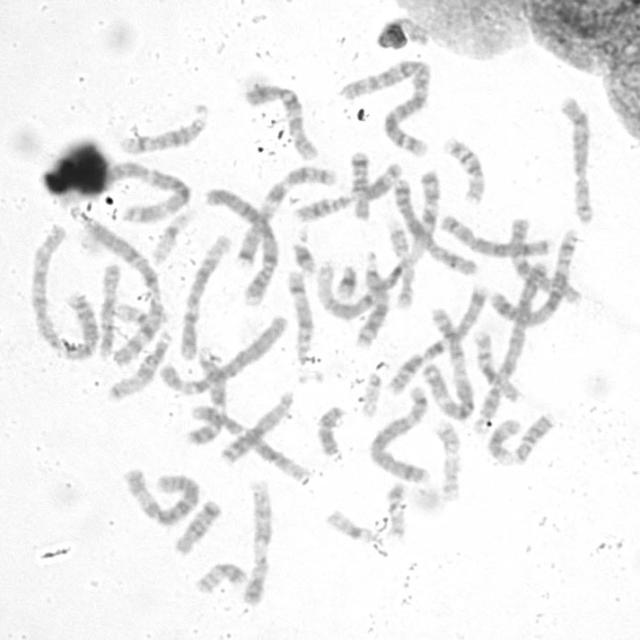A1: (310, 168, 442, 321), (78, 215, 166, 366)
A2: (335, 50, 436, 158), (26, 222, 100, 360)
A3: (422, 302, 477, 422), (101, 156, 193, 224)
B4: (470, 252, 552, 436), (202, 183, 282, 308)
B5: (484, 227, 582, 327), (364, 381, 432, 485)
C10: (507, 215, 584, 307), (240, 78, 320, 162)
C11: (288, 158, 404, 224), (510, 410, 556, 465)
C12: (186, 402, 311, 484), (174, 230, 233, 362)
C6: (157, 309, 291, 396), (119, 463, 203, 527)
C7: (383, 279, 492, 397), (232, 161, 340, 269)
C8: (436, 210, 556, 259), (556, 91, 596, 226)
C9: (238, 477, 276, 608), (186, 345, 229, 447)
D13: (217, 386, 297, 465), (352, 247, 390, 348)
D14: (116, 102, 211, 156), (284, 265, 317, 367)
D15: (105, 328, 175, 403), (95, 259, 122, 361)
E16: (471, 328, 524, 404), (441, 133, 487, 204)
E17: (383, 215, 418, 312), (432, 416, 465, 502)
E18: (172, 497, 224, 556), (346, 146, 374, 221)
F19: (148, 206, 195, 266), (322, 506, 379, 544)
F20: (192, 558, 248, 596), (382, 480, 408, 539)
G21: (289, 237, 320, 276), (331, 260, 359, 300)
G22: (358, 367, 383, 419), (112, 299, 152, 326)
X: (392, 174, 481, 277)
Y: (314, 401, 348, 457)
